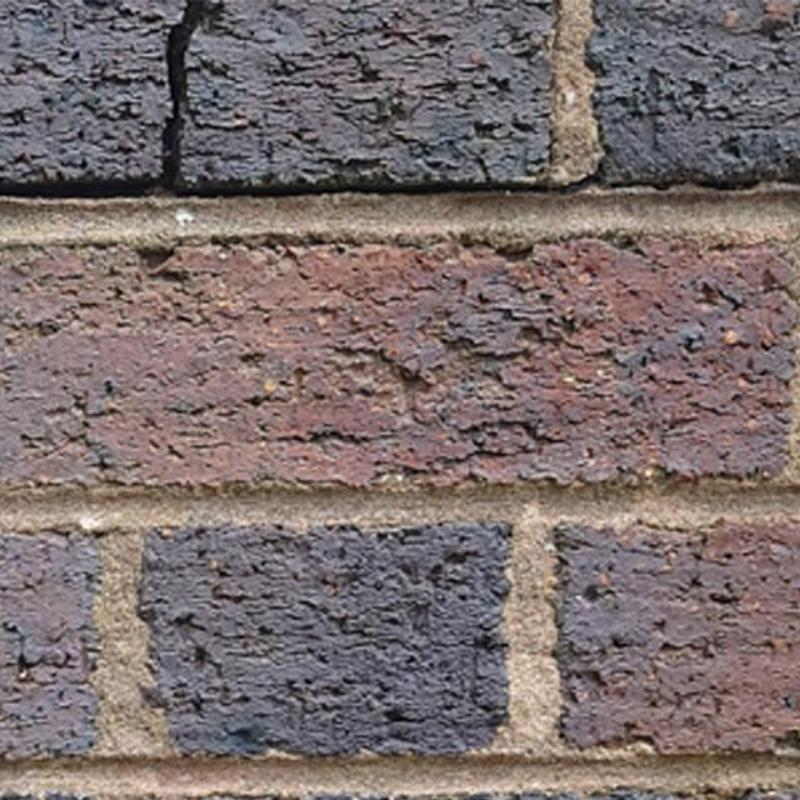pothole: (0, 0, 503, 198), (504, 174, 800, 195)
